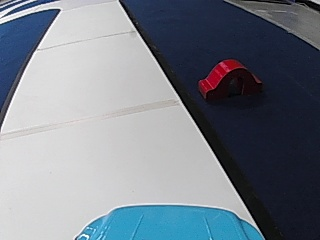bridge: (194, 55, 261, 100)
